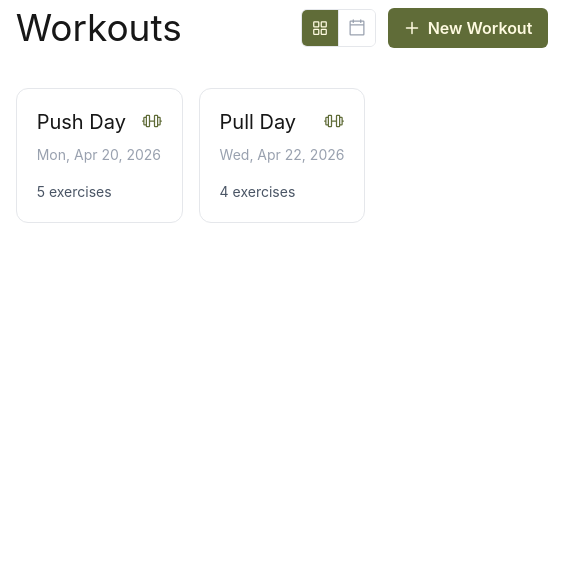
WorkoutsView — calendar view › navigates to the next month on clicking the forward arrow
The image size is (565, 587).
Click the button named "Calendar view".
click(356, 28)  # box [338,10,375,46]
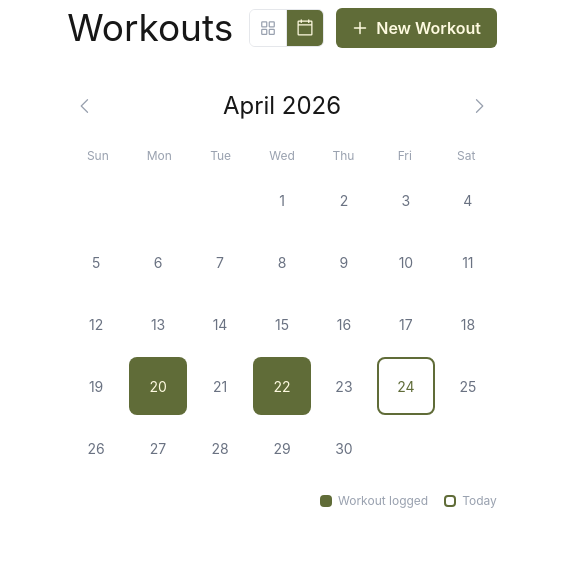
Click the button named "Next month".
click(479, 106)  # box [461,88,497,124]
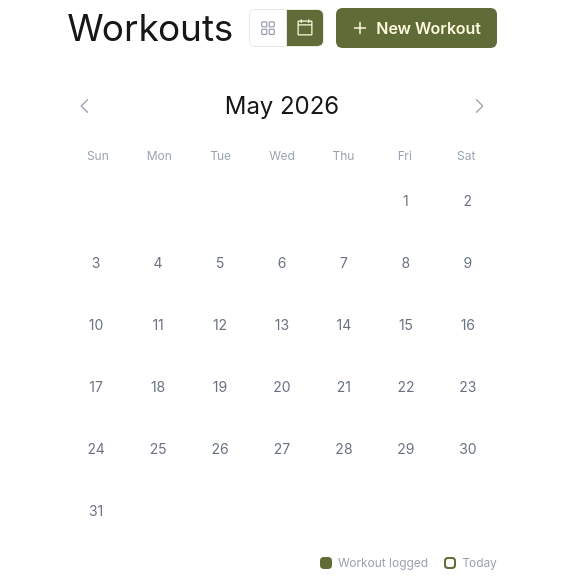
Check: the heading "May 2026" is shown, box [225,88,339,124]
